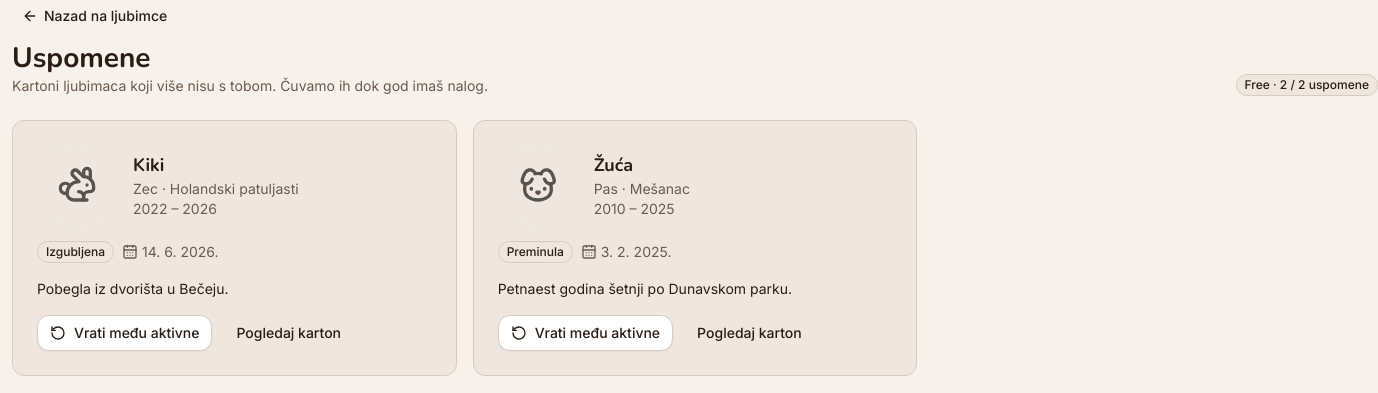
S06 — Uspomene › FR-12: restore with a free slot re-enables reminders, the card leaves the list and a toast confirms
Click the button "Vrati među aktivne" below "Pobegla iz dvorišta u Bečeju.". click: (125, 333)
box: [37,315,212,351]
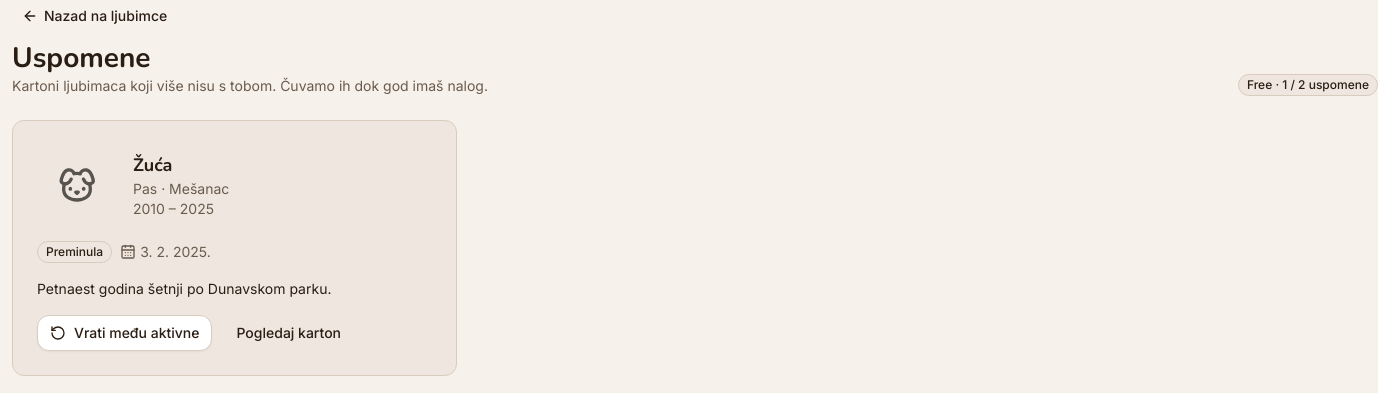
Expected: the number of elements with test id "memorial-card" is 1, [12,120,457,376]
Expected: the heading "Kiki" is gone
